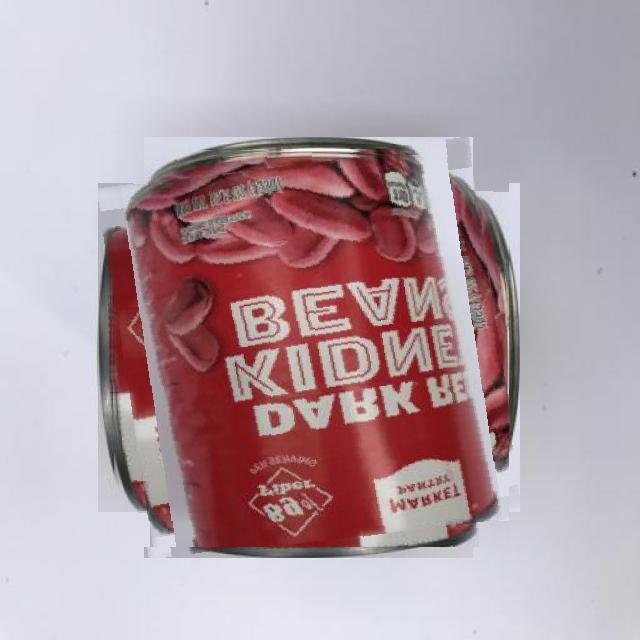recyclable: (109, 148, 509, 547)
